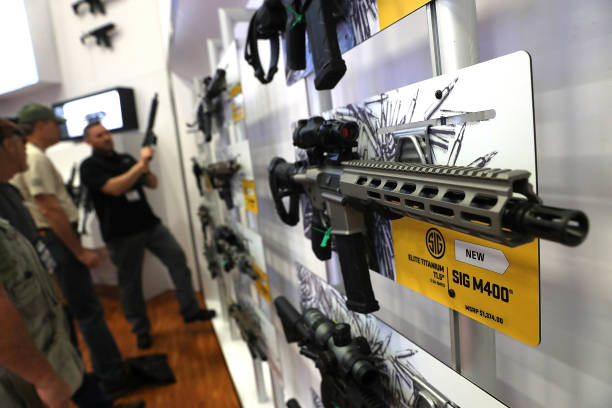rifle: (266, 114, 599, 320)
